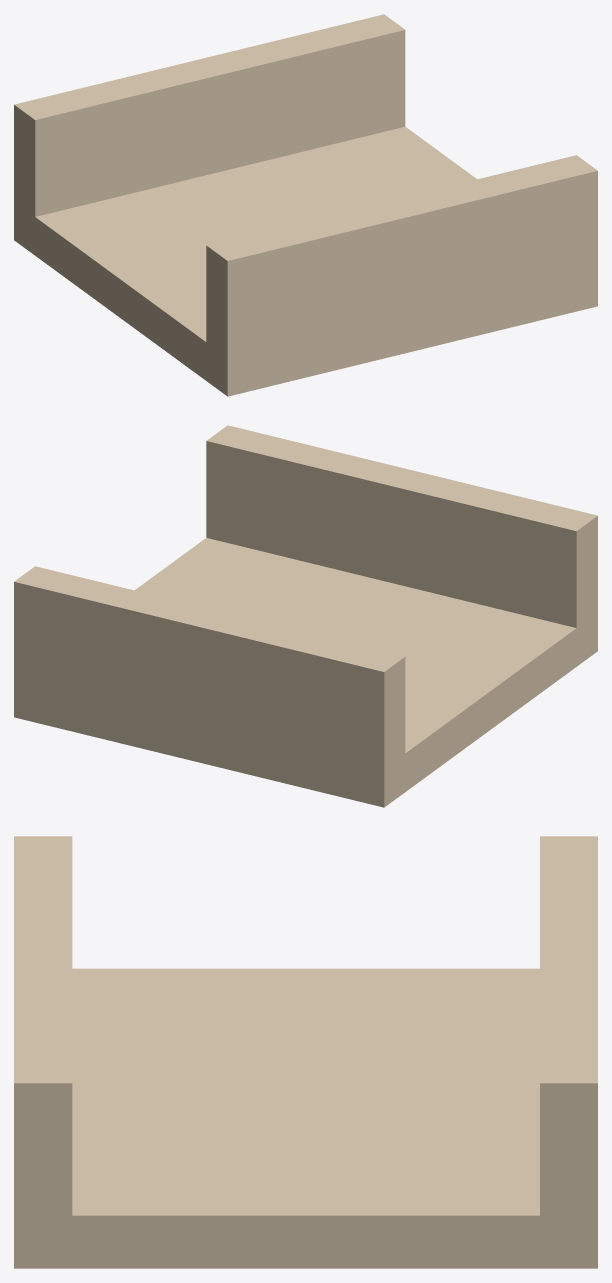
File: CreamRoof_2Edges_Small.glb
3 views of the same model, one above another, from view 1: azimuth 30°, elevation 25°; view 2: azimuth 150°, elevation 25°; view 3: azimuth 270°, elevation 25° (orthographic). The views are drawn at different scales.
Parts seen in each view (by area): view 1: roof_flat_2Edges_small_cream; view 2: roof_flat_2Edges_small_cream; view 3: roof_flat_2Edges_small_cream.
Part boxes in pixels (left/top/right/bottom): roof_flat_2Edges_small_cream: left=14, top=14, right=597, bottom=396; roof_flat_2Edges_small_cream: left=14, top=425, right=597, bottom=807; roof_flat_2Edges_small_cream: left=14, top=836, right=597, bottom=1268.
Size of what is drawn, in the model's own units: 2 by 0.7 by 2.
Materials: 1 (1 with a texture image).
